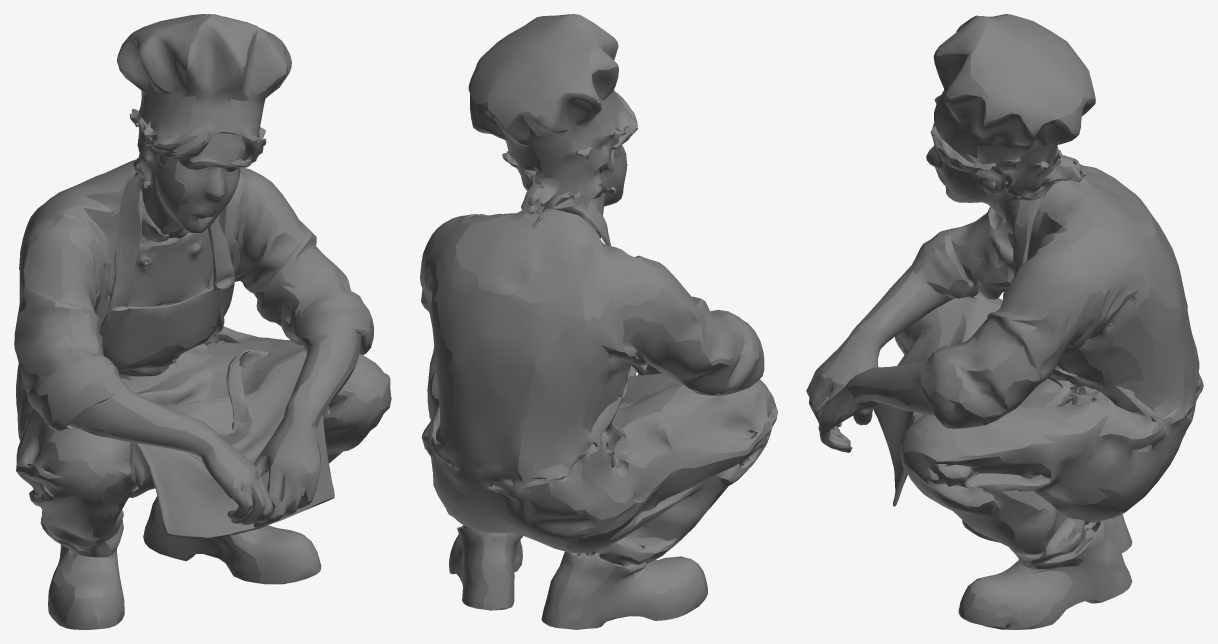
The model's file is completion_chef_0.glb.
3 renders of one model, left to right at view 1: azimuth 30°, elevation 25°; view 2: azimuth 150°, elevation 25°; view 3: azimuth 270°, elevation 25°, orthographic. The views are drawn at different scales.
Parts seen in each view (by area): view 1: geometry_0; view 2: geometry_0; view 3: geometry_0.
Boxes of the visible parts, <box> form: geometry_0: <box>14,14,391,629</box>; geometry_0: <box>420,14,777,629</box>; geometry_0: <box>806,14,1203,629</box>.
Size of the model in its own units: 0.6291 by 1 by 0.6409.
Materials: 1 (1 with a texture image).
